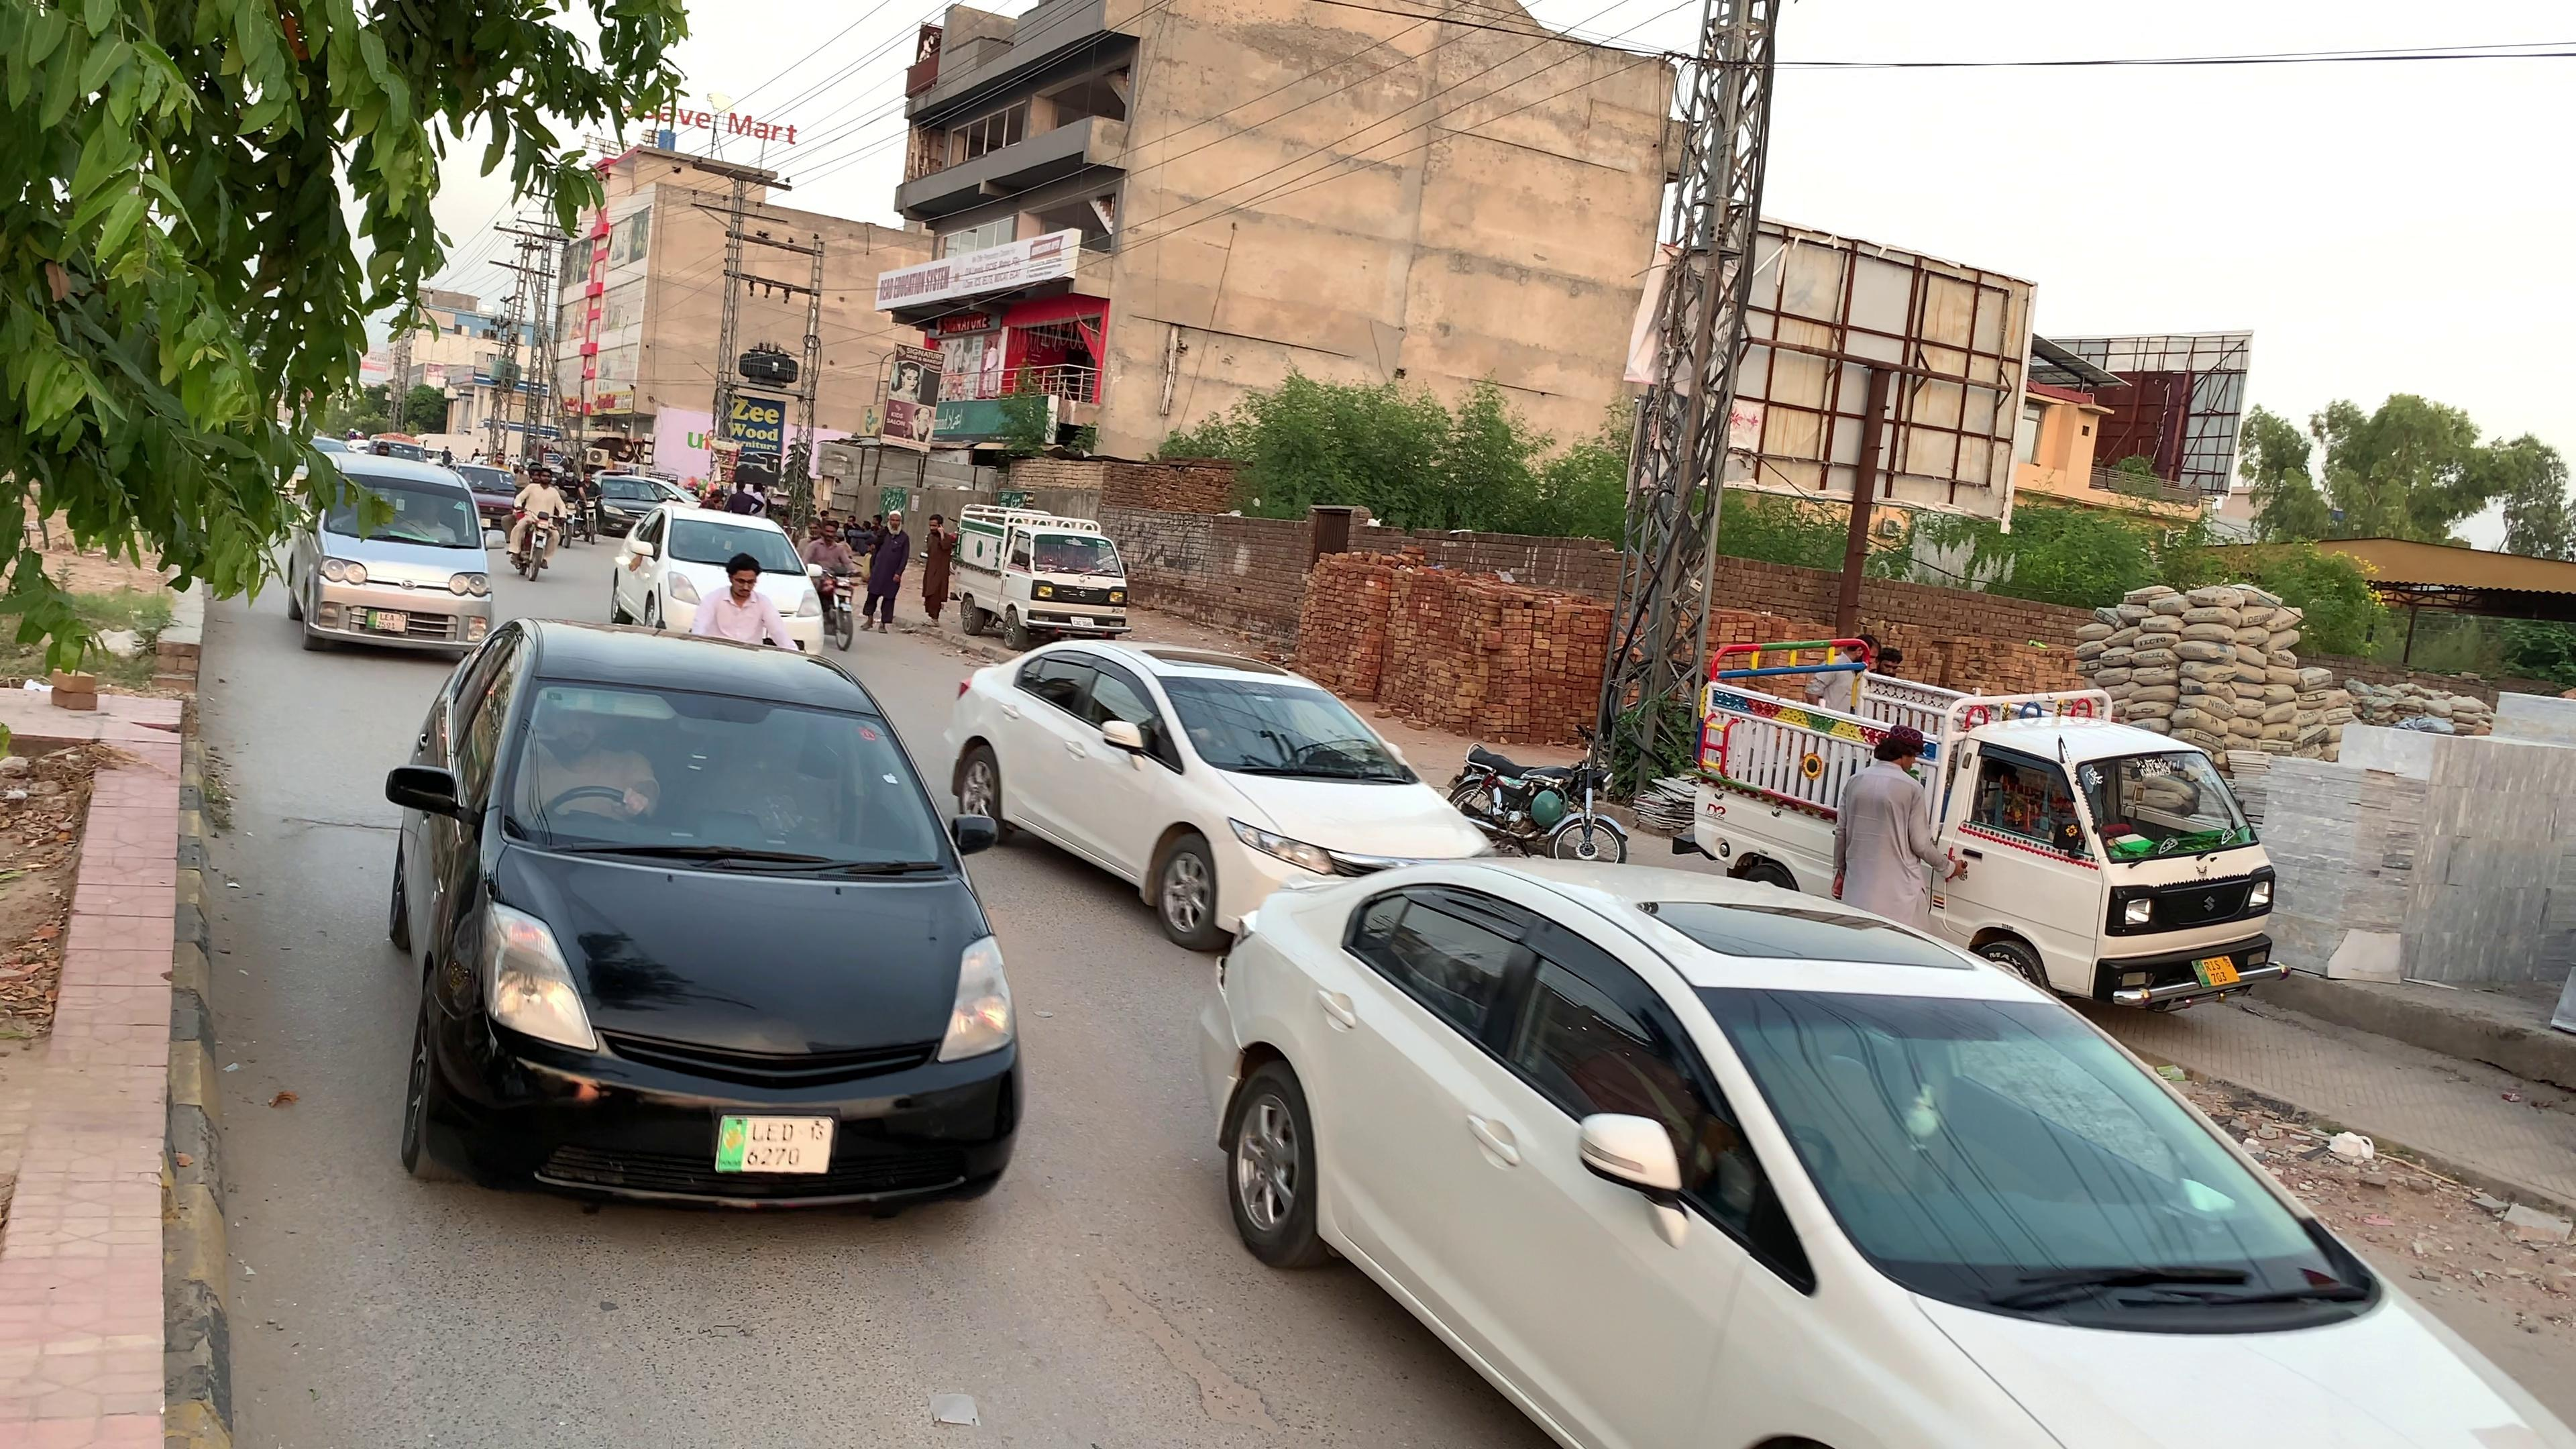windshield: (1684, 977, 2378, 1332), (487, 658, 964, 895)
